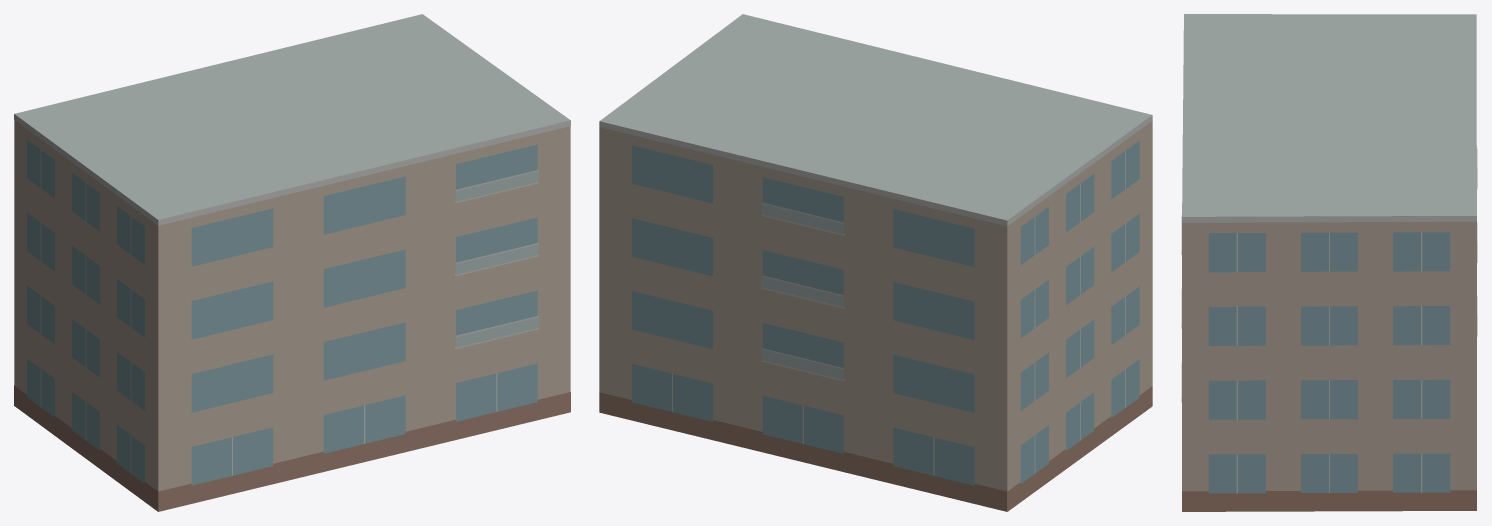
Rendered from survey-upis-32822966.glb.
3 renders of one model, left to right at view 1: azimuth 30°, elevation 25°; view 2: azimuth 150°, elevation 25°; view 3: azimuth 270°, elevation 25°, orthographic.
Parts seen in each view (by area): view 1: survey-upis-32822966.tmp; view 2: survey-upis-32822966.tmp; view 3: survey-upis-32822966.tmp.
Part boxes in pixels (bbox=[...]): survey-upis-32822966.tmp: bbox=[14, 14, 570, 511]; survey-upis-32822966.tmp: bbox=[599, 14, 1152, 511]; survey-upis-32822966.tmp: bbox=[1181, 14, 1477, 511].
Bounding box in the file's own units: 18.16 × 12.3 × 11.21.
